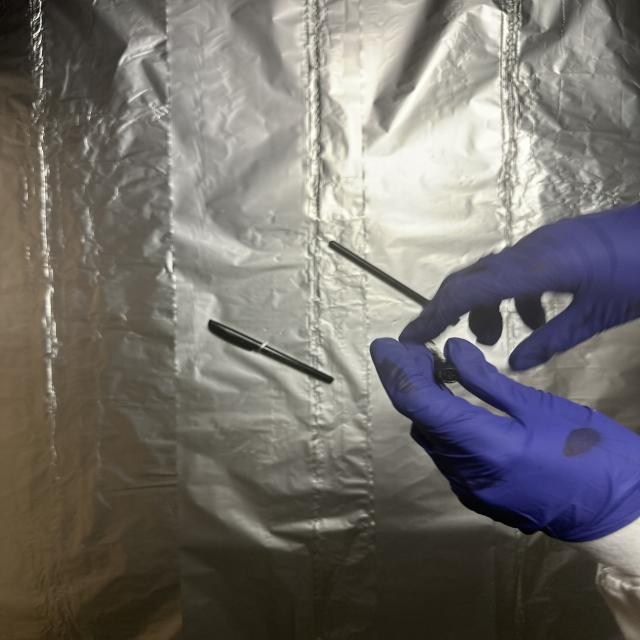glove_on: (400, 202, 640, 370)
gloves_contaminated: (371, 338, 640, 543)
